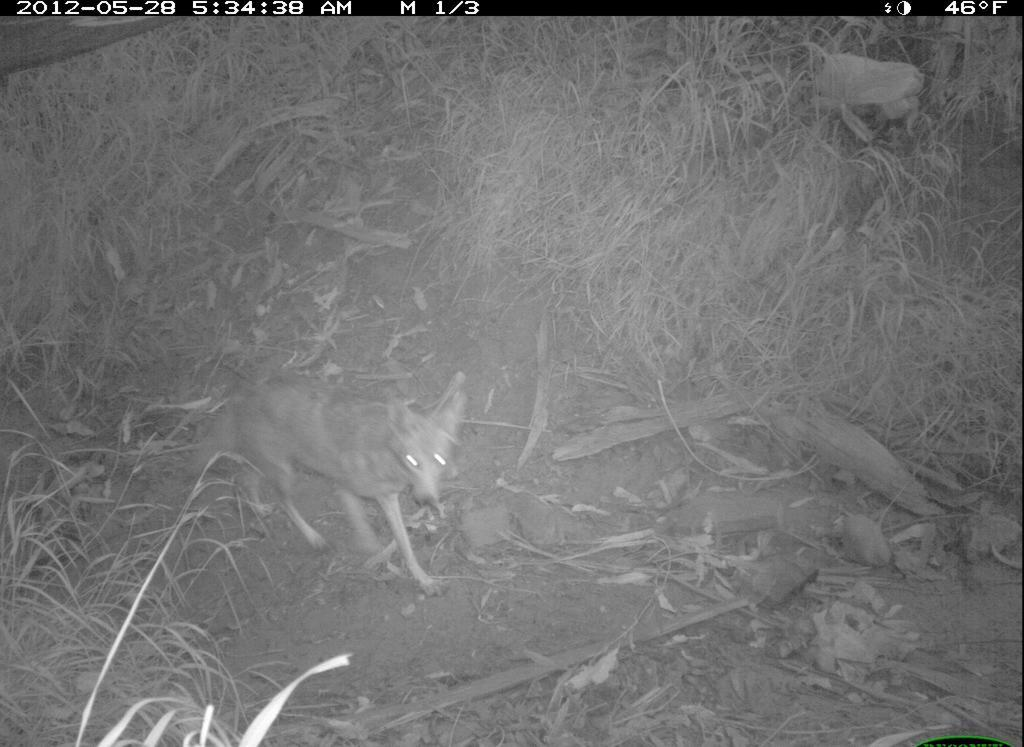coyote: (169, 369, 496, 598)
